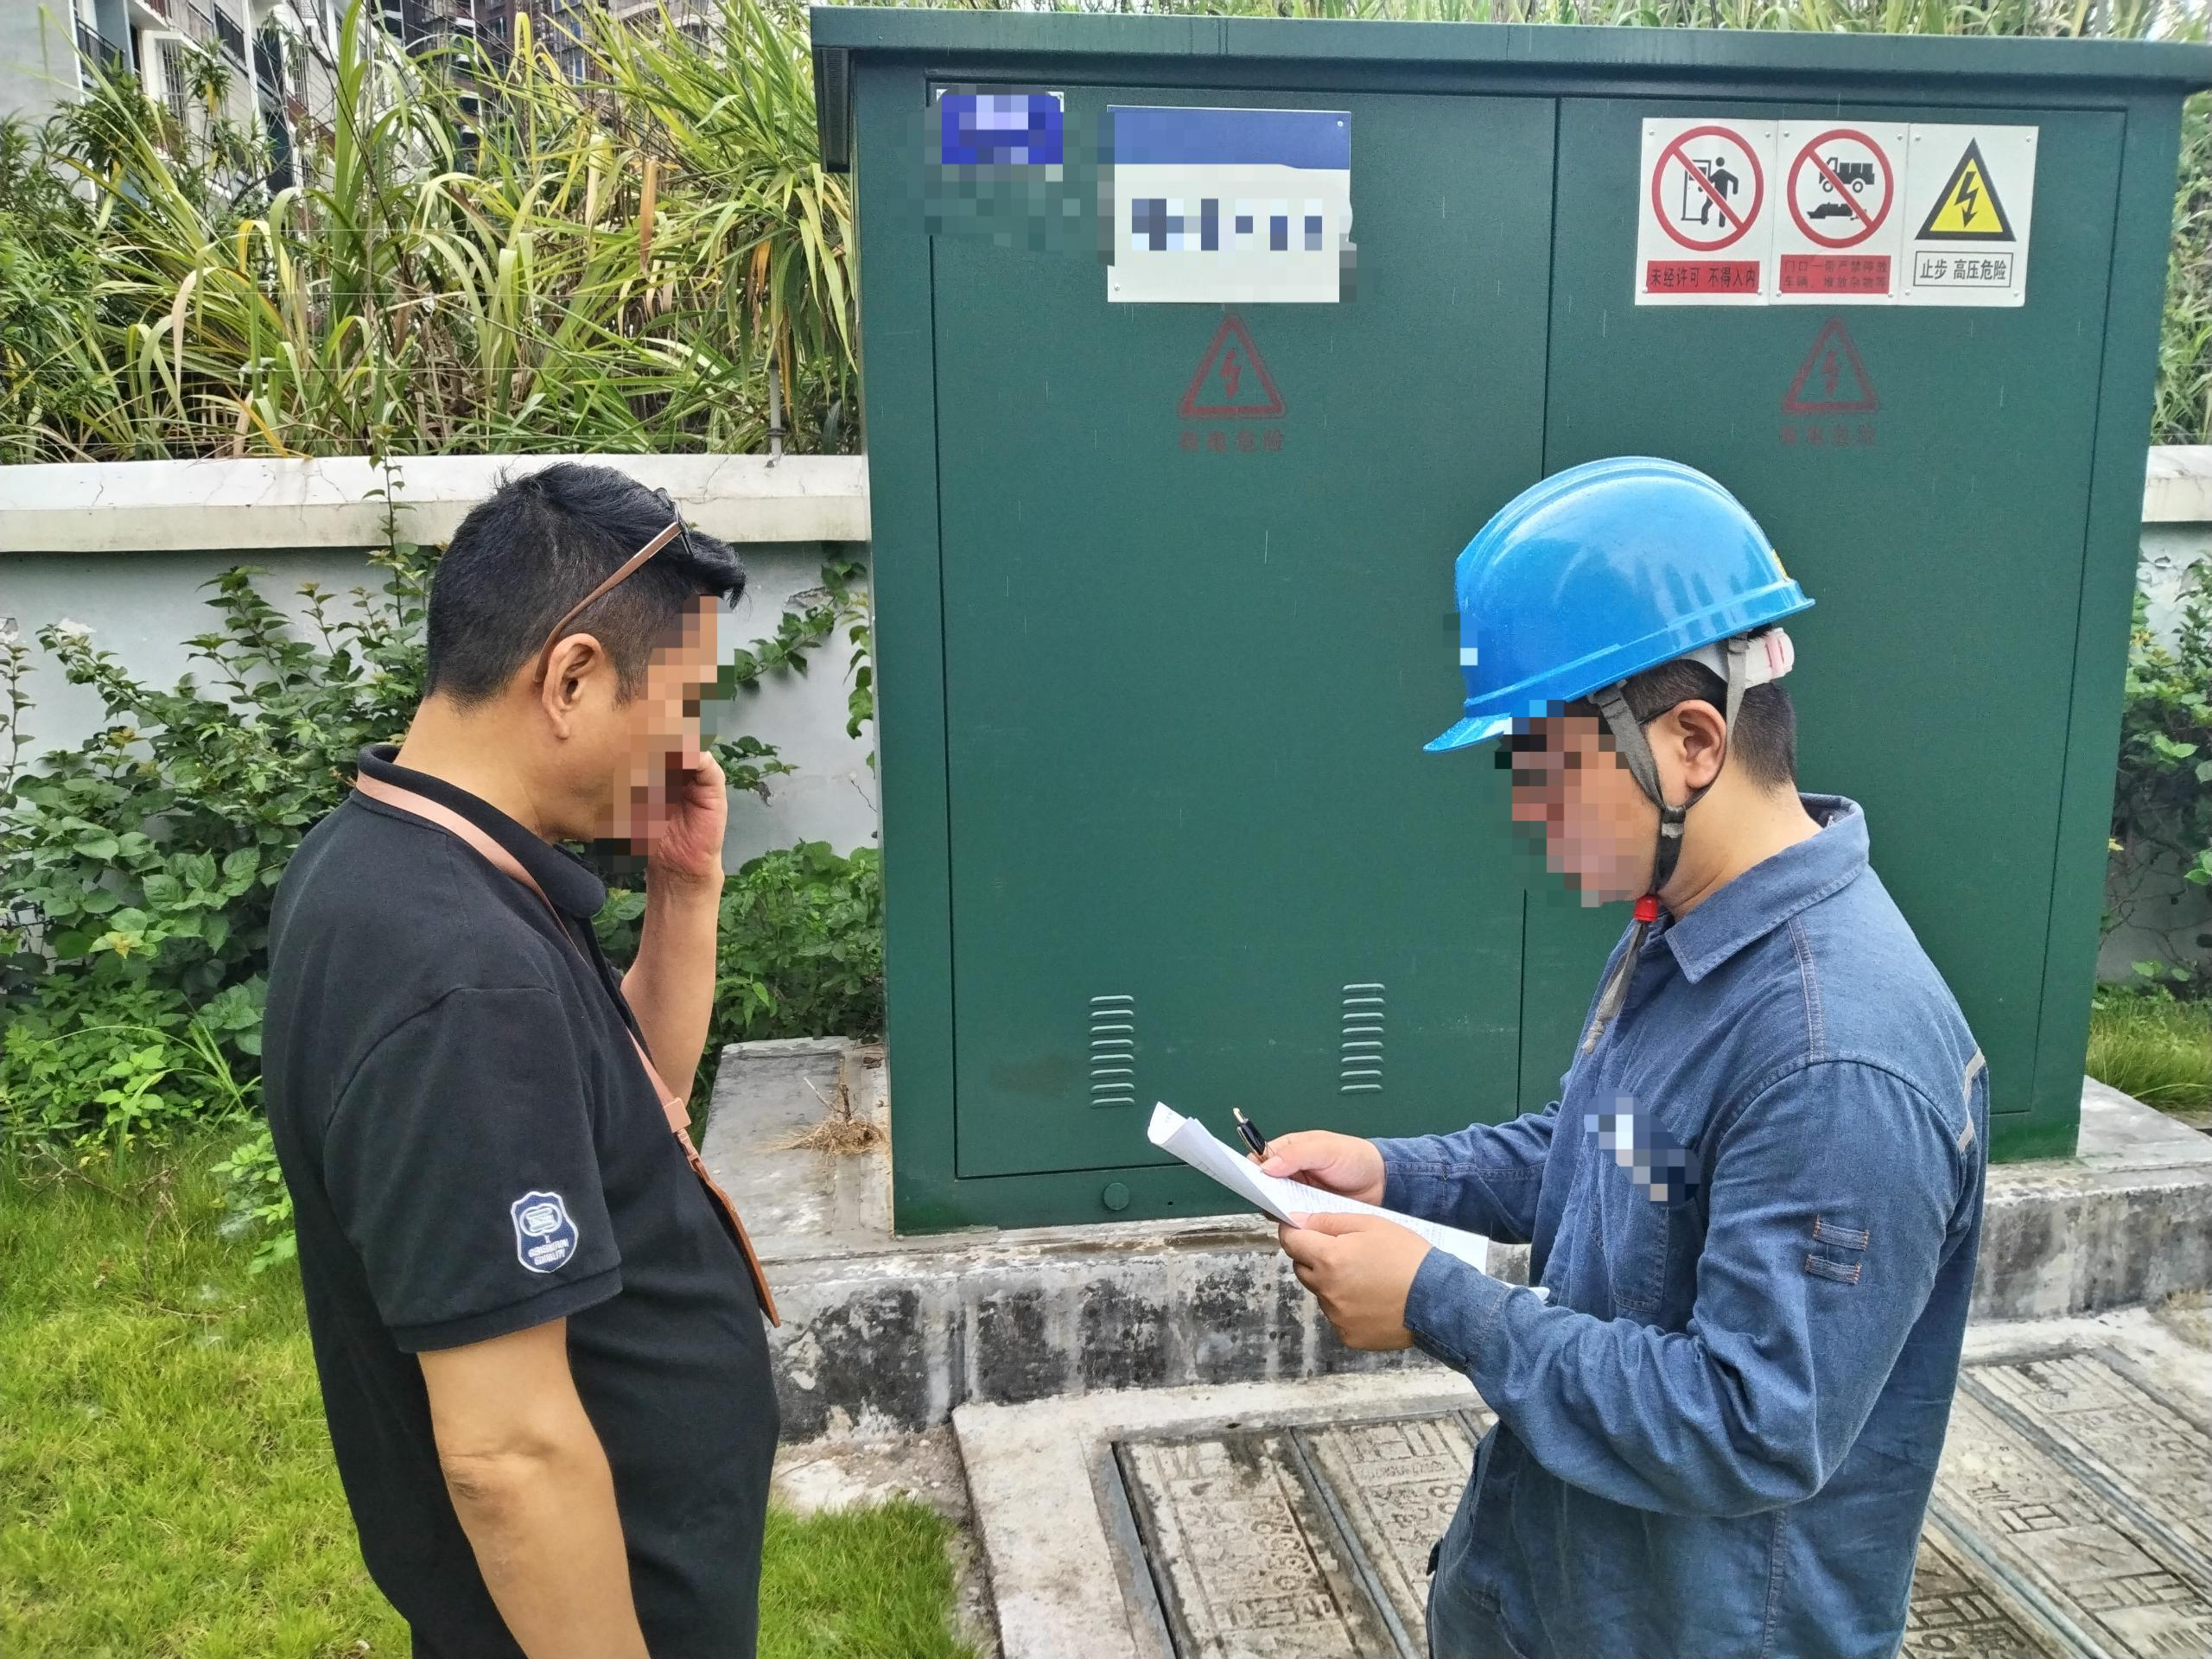halt: (1428, 460, 1846, 887)
inear: (1599, 660, 1768, 828)
noear: (524, 622, 631, 791)
unhalt: (404, 462, 747, 835)
